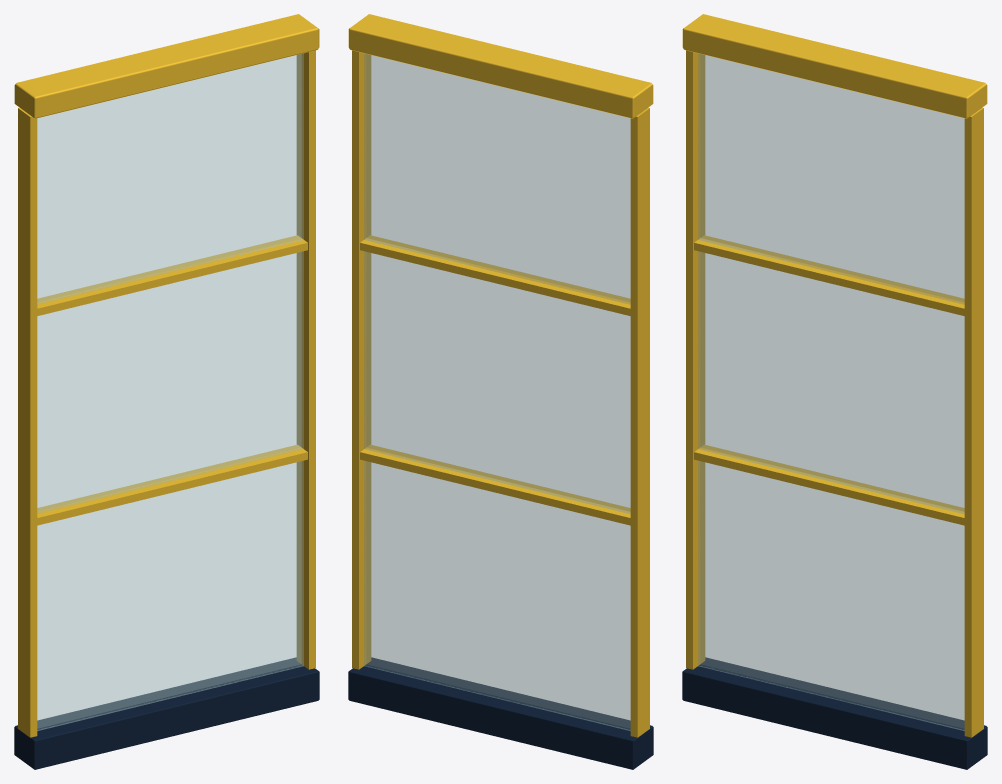
File: CM_Shell_GlassCurtain.fbx
3 renders of one model, left to right at view 1: azimuth 30°, elevation 25°; view 2: azimuth 150°, elevation 25°; view 3: azimuth 330°, elevation 25°, orthographic.
Visible parts, largest first — view 1: Glass, Body; view 2: Glass, Body; view 3: Glass, Body.
Part boxes in pixels (x1=…): Glass: x1=37, y1=53, x2=303, y2=730; Body: x1=14, y1=14, x2=319, y2=769; Glass: x1=364, y1=53, x2=630, y2=730; Body: x1=348, y1=14, x2=653, y2=769; Glass: x1=698, y1=53, x2=964, y2=730; Body: x1=682, y1=14, x2=987, y2=769.
Size of the model in its own units: 8 by 1 by 18.
2 materials, 2 textured.
